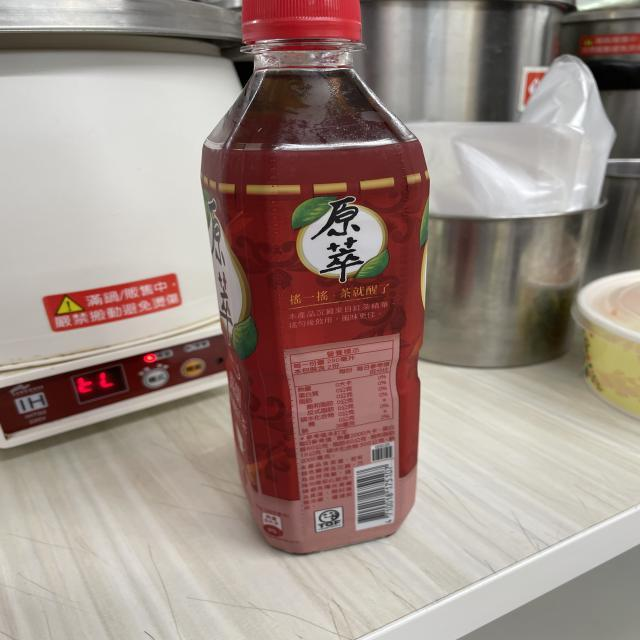YuanTsui_BlackTea: (186, 0, 462, 566)
